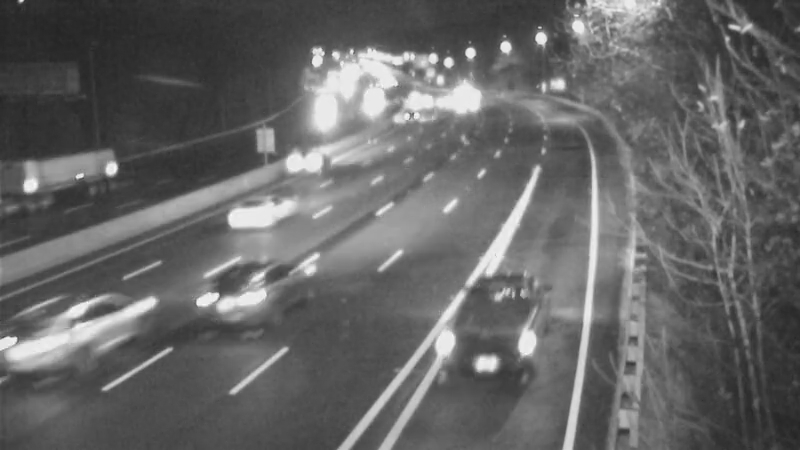vehicle: (192, 253, 302, 363), (422, 306, 532, 416), (1, 294, 99, 404), (282, 113, 362, 193), (223, 163, 303, 243), (1, 151, 65, 231), (382, 88, 432, 138), (346, 74, 396, 124)
